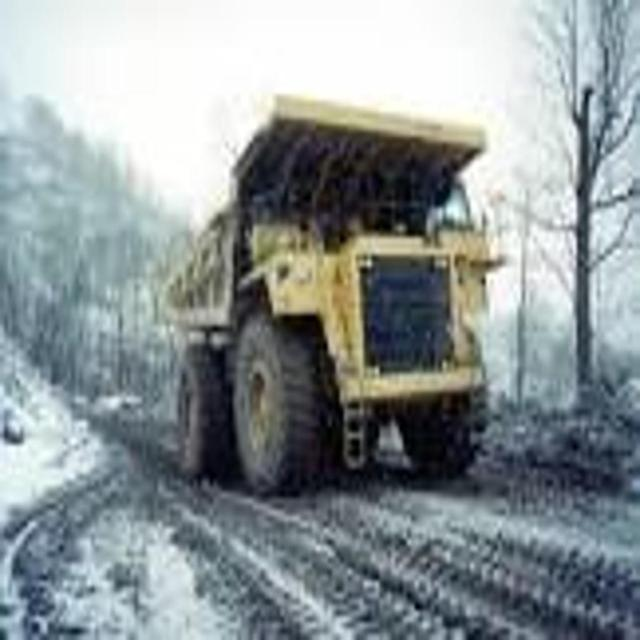dump_truck: (161, 87, 503, 518)
